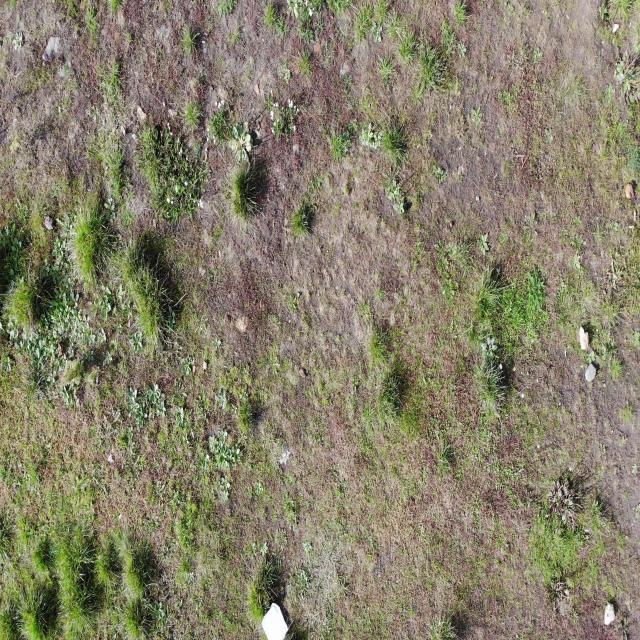rubbish: (262, 604, 288, 640)
